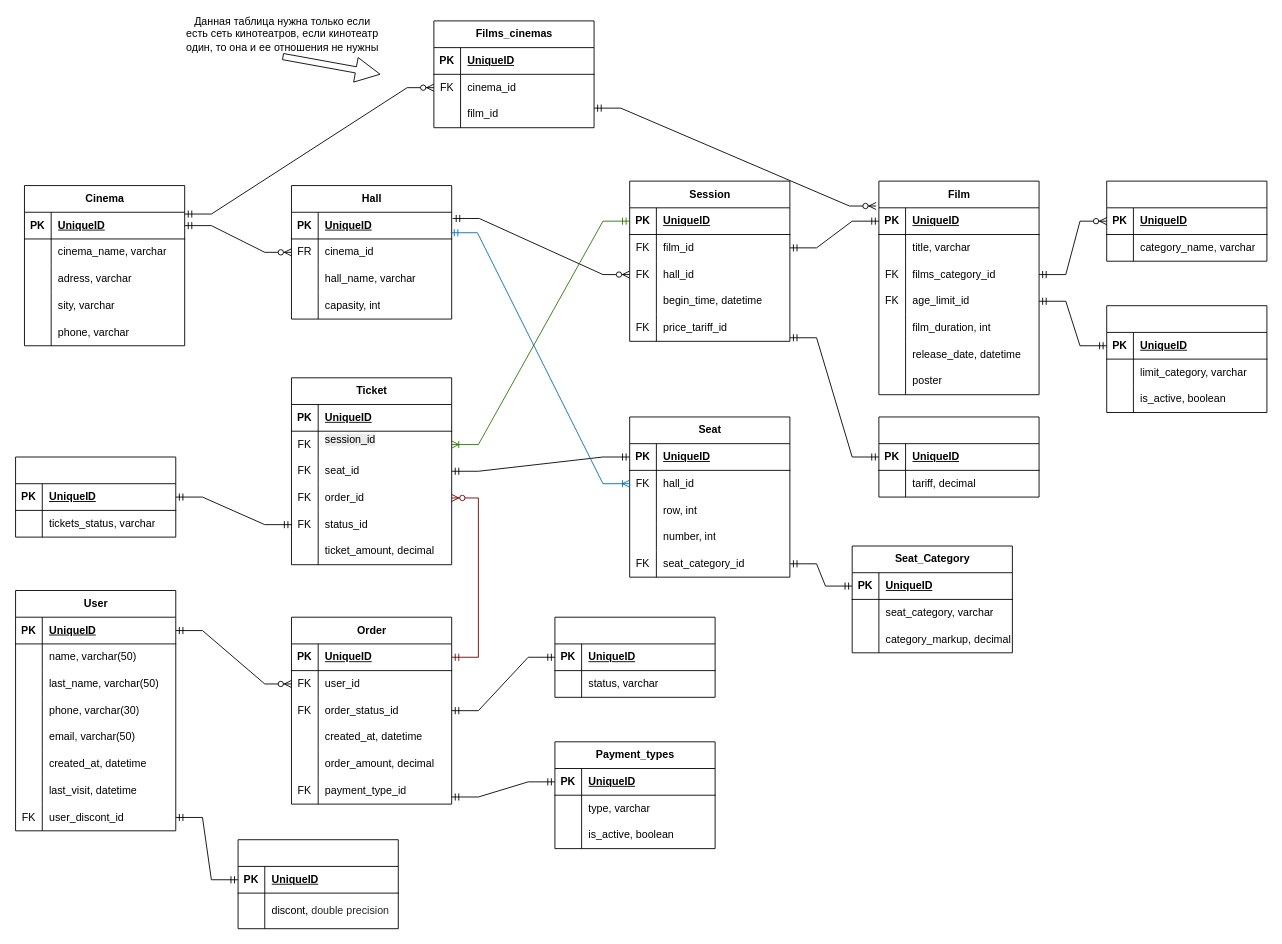
Some shapes in this 1282 by 944 pixel diagram are drawn without their labels. Each missing label, with the box of its shape:
Age_limit: (1106, 305, 1267, 413)
Films_category: (1106, 180, 1267, 261)
Orders_status: (554, 616, 715, 697)
Session_price_tariff: (878, 416, 1039, 497)
Ticket_status: (15, 456, 176, 537)
User_discont: (237, 839, 398, 929)
